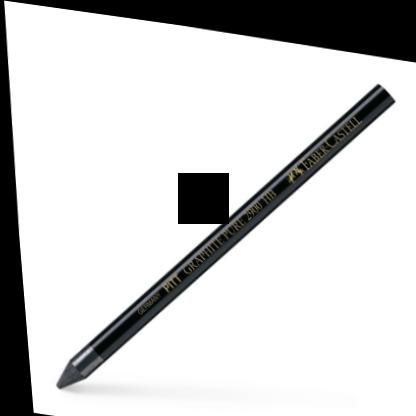pencil: (44, 68, 399, 391)
